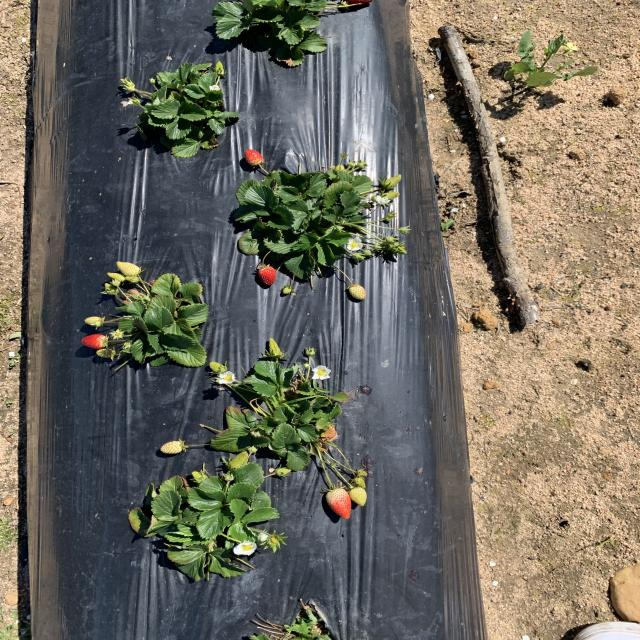unripe: (324, 489, 351, 520), (79, 334, 111, 348), (258, 265, 277, 286), (244, 148, 264, 166)
